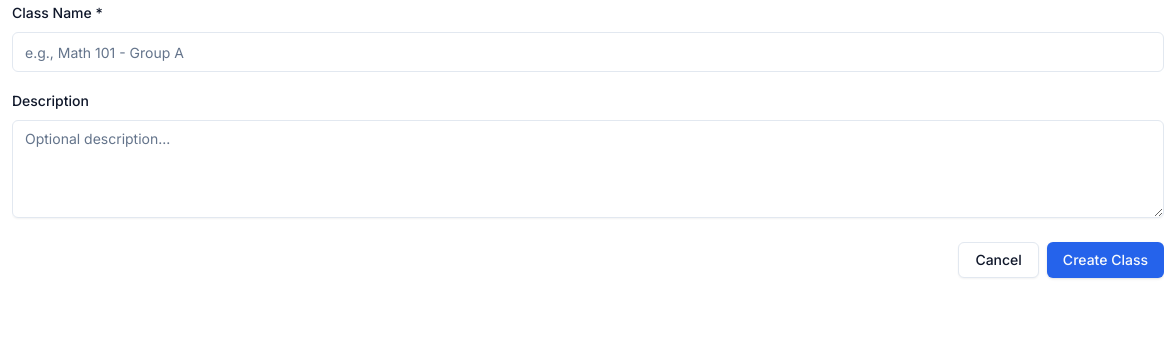
Test: CreateClassForm › clears error when user starts typing again
The width and height of the screenshot is (1176, 356).
Type "Math 101" into the field labelled "Class Name *" at {"x": 588, "y": 52}, box [12,32,1164,72]
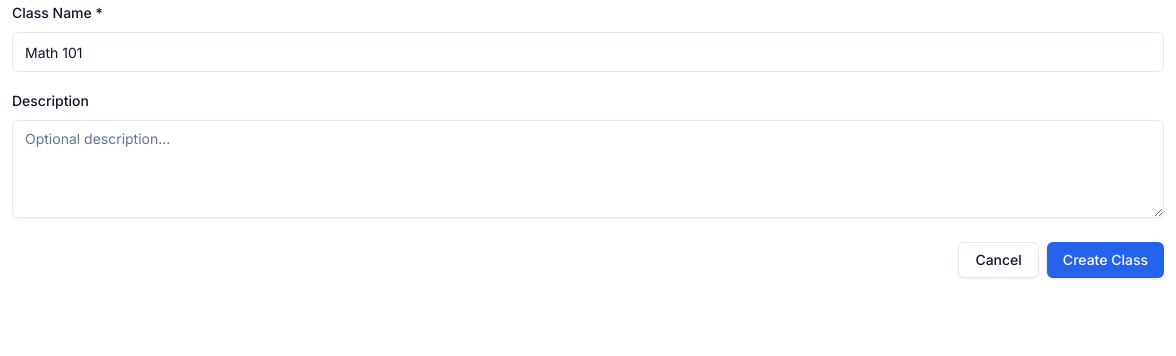
Click the button "Create Class" at {"x": 1105, "y": 260}, box [1047,242,1164,278]
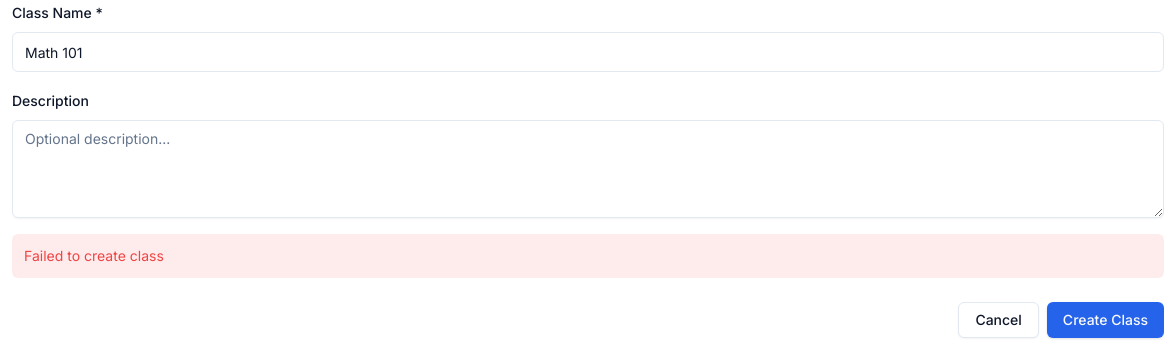
Expected: the text "Failed to create class" is shown, [12,234,1164,278]
Replace the text in the field labelled "Class Name *" with "Math 102" at {"x": 588, "y": 52}, box [12,32,1164,72]
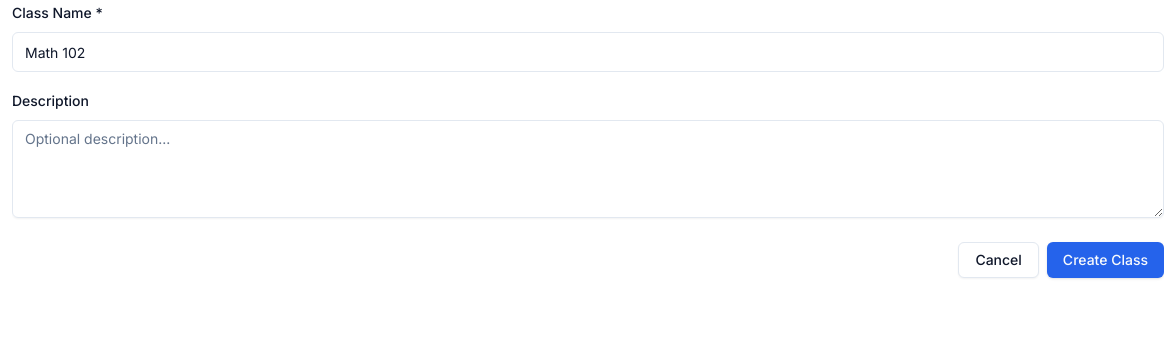
Expected: the text "Failed to create class" is gone
